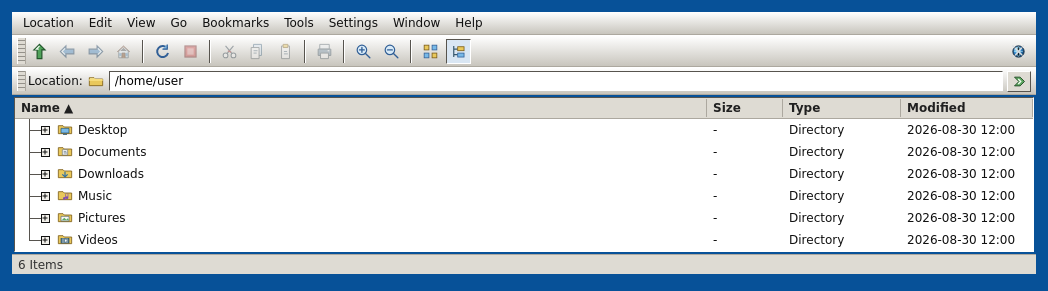
Test: Konqueror internal tabs › keeps the first tab implicit, creates an active tab from Location, and restores the one-tab layout on close
This screenshot has width=1048, height=291.
Click the button with class "konqueror-menuitem" showing "Location".
click(48, 23)  # box [16,14,81,32]
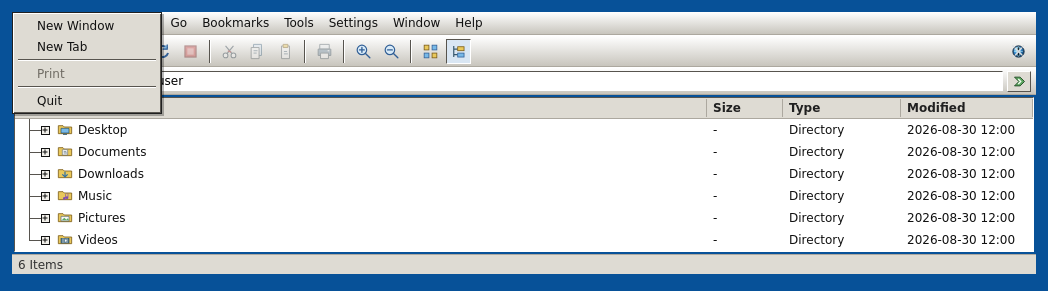
Click the menu item "New Tab".
click(87, 46)  # box [15,36,159,57]
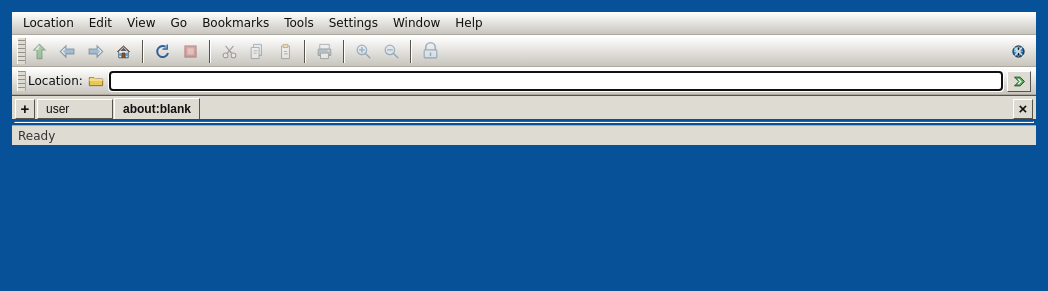
expect the element with class "konqueror-tabbar" is shown: met, box [12,95,1036,119]
expect the number of tabs is 2: met, box [37,99,113,119]; [114,98,200,119]
expect the tab "about:blank" is shown: met, box [114,98,200,119]
Click the button named "Close Current Tab".
click(1023, 109)  # box [1013,99,1033,119]
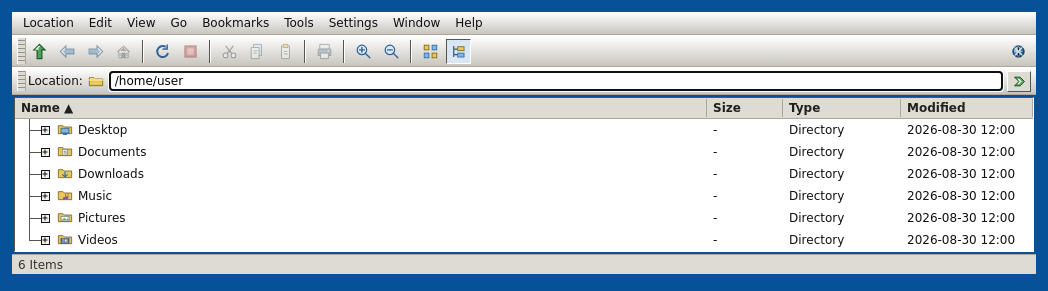
expect the element with class "konqueror-tabbar" is gone: met
